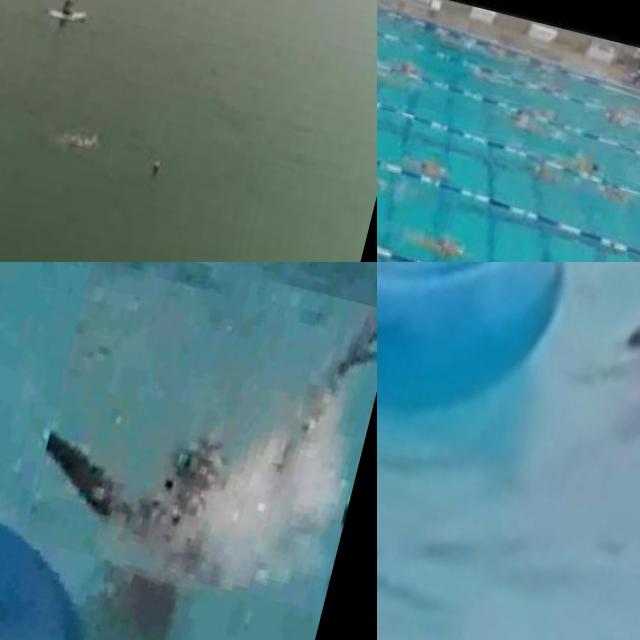drowning: (23, 262, 377, 614), (565, 262, 640, 504)
swimming: (397, 221, 469, 262), (59, 116, 108, 162), (400, 147, 452, 187), (516, 92, 570, 130), (562, 147, 606, 187), (593, 174, 636, 211), (380, 49, 420, 88)
